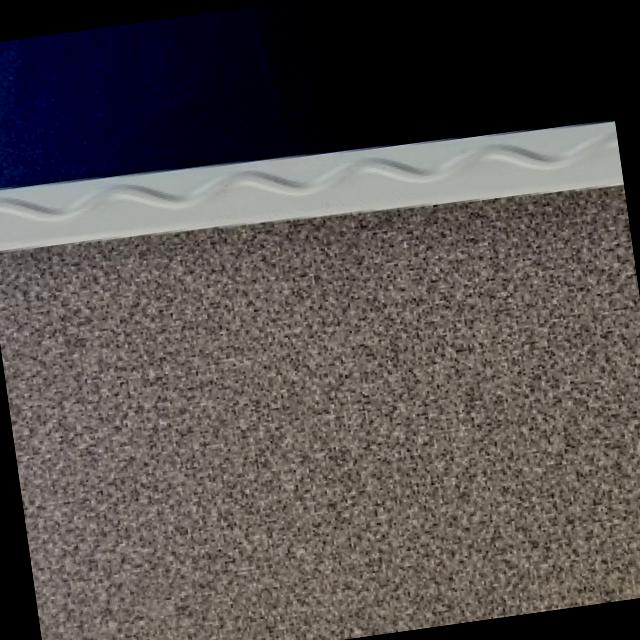healthy: (0, 0, 640, 640), (0, 0, 624, 247), (0, 121, 624, 247)
